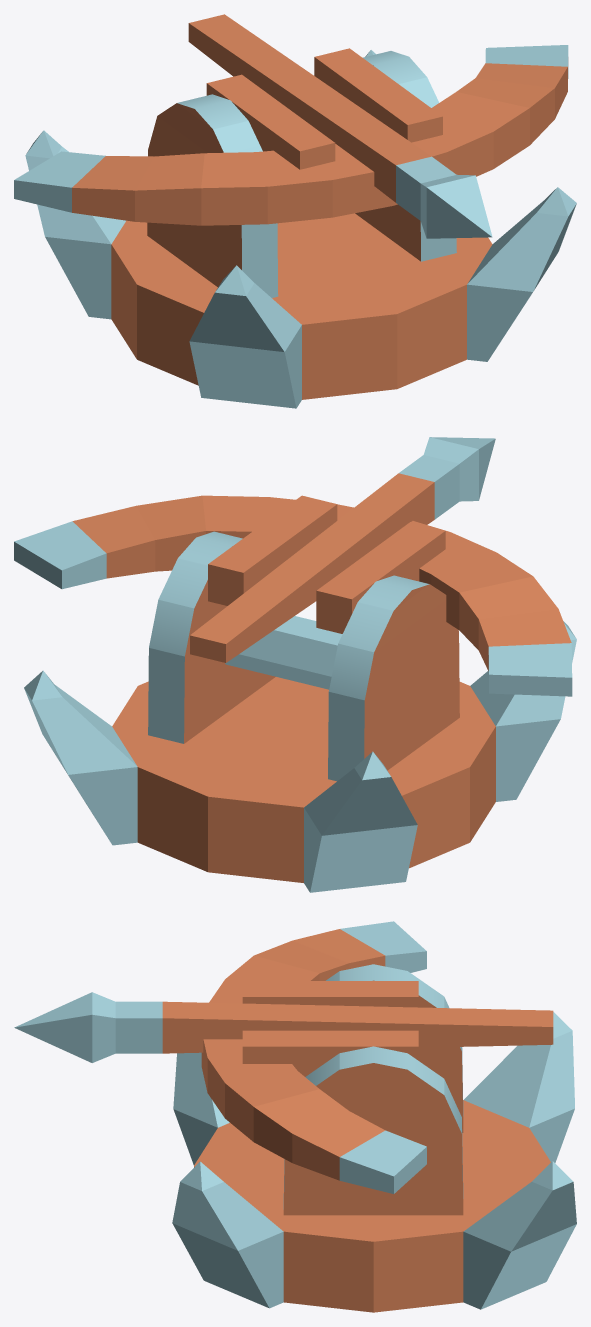
Rendered from ballestaSegundoModelo.fbx.
3 views of the same model, one above another, from view 1: azimuth 30°, elevation 25°; view 2: azimuth 150°, elevation 25°; view 3: azimuth 270°, elevation 25° (orthographic). The views are drawn at different scales.
Visible parts, largest first — view 1: weapon_ballista, bow, arrow; view 2: weapon_ballista, bow, arrow; view 3: weapon_ballista, bow, arrow.
Boxes of the visible parts, x1,y1,x2,y2 form: weapon_ballista: (25,50,576,408); bow: (14,45,568,225); arrow: (188,14,492,238); weapon_ballista: (24,531,576,892); bow: (14,495,572,696); arrow: (190,437,495,662); weapon_ballista: (172,964,576,1312); bow: (201,921,426,1193); arrow: (14,992,553,1062).
Bounding box in the file's own units: 30.41 × 12.96 × 28.35.
